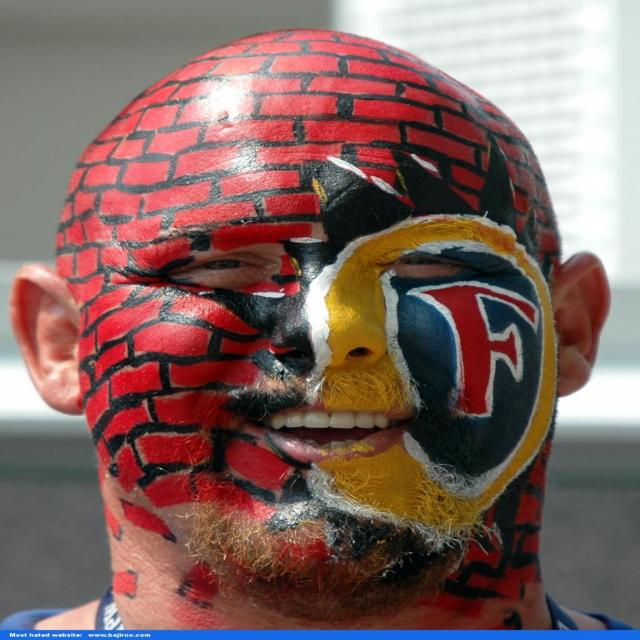nomask: (86, 100, 556, 608)
